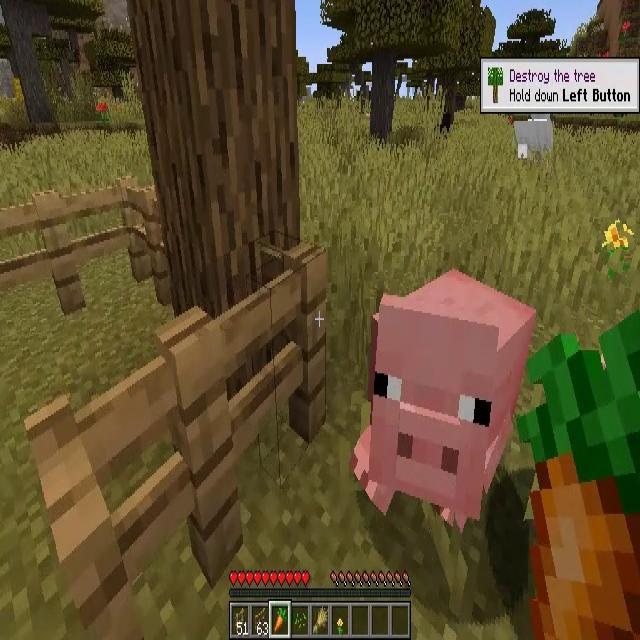flower: (601, 217, 636, 250)
pig: (363, 270, 534, 534)
sheep: (514, 113, 553, 160)
